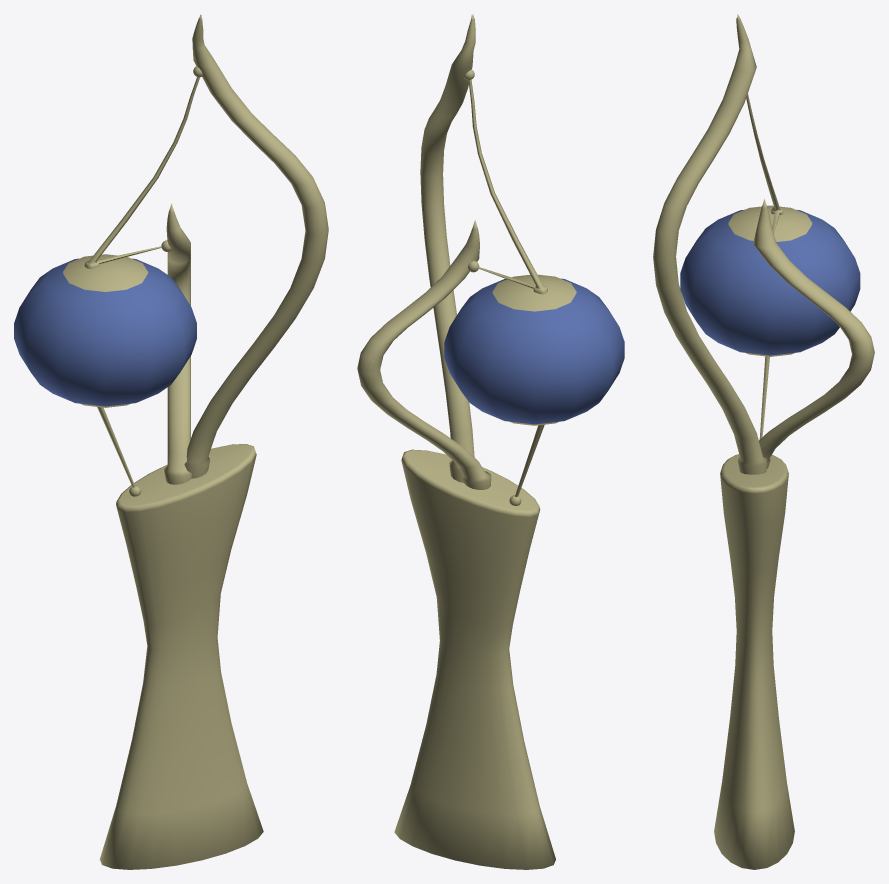
File: floor_lamp.fbx
3 views of the same model, side by side, from view 1: azimuth 30°, elevation 25°; view 2: azimuth 150°, elevation 25°; view 3: azimuth 270°, elevation 25° (orthographic).
Visible parts, largest first — view 1: pCube94; view 2: pCube94; view 3: pCube94.
Part boxes in pixels (x1=…): pCube94: x1=14, y1=14, x2=328, y2=869; pCube94: x1=357, y1=14, x2=624, y2=869; pCube94: x1=653, y1=14, x2=874, y2=869.
Size of the model in its own units: 0.5257 by 1.7 by 0.4145.
